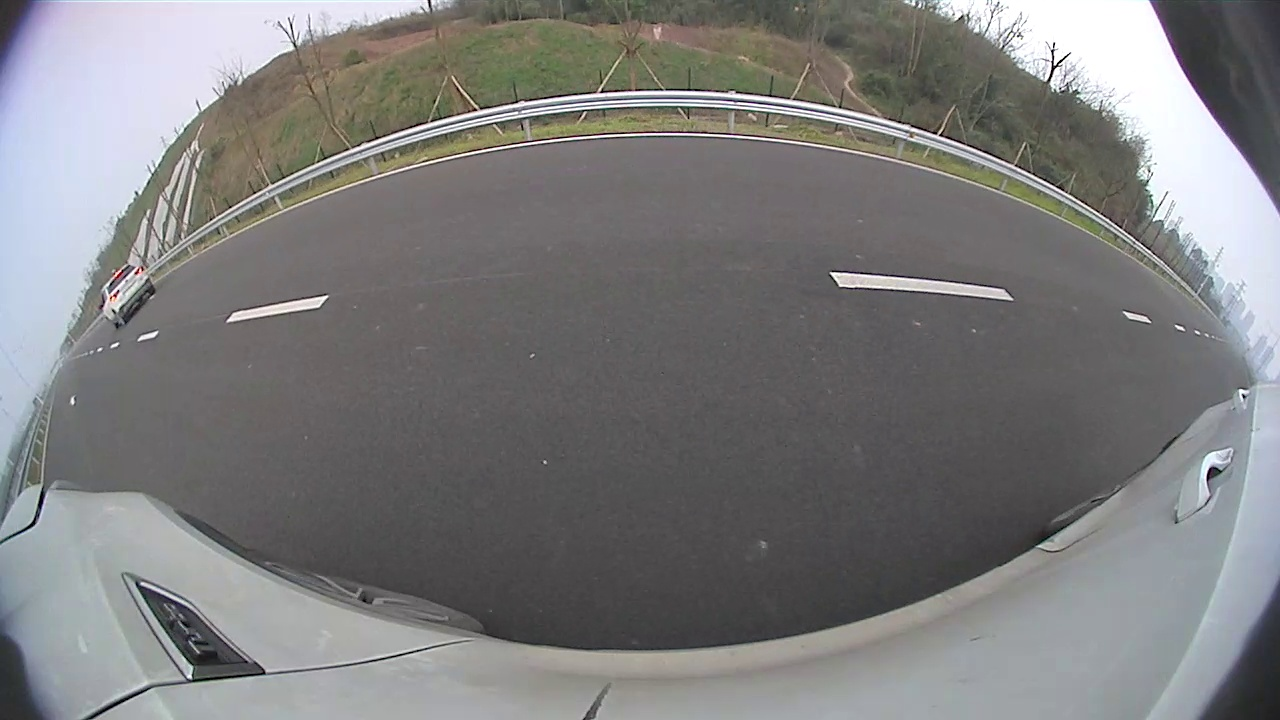car: (732, 145, 836, 209)
front: (734, 174, 747, 196)
rear: (764, 177, 778, 203)
